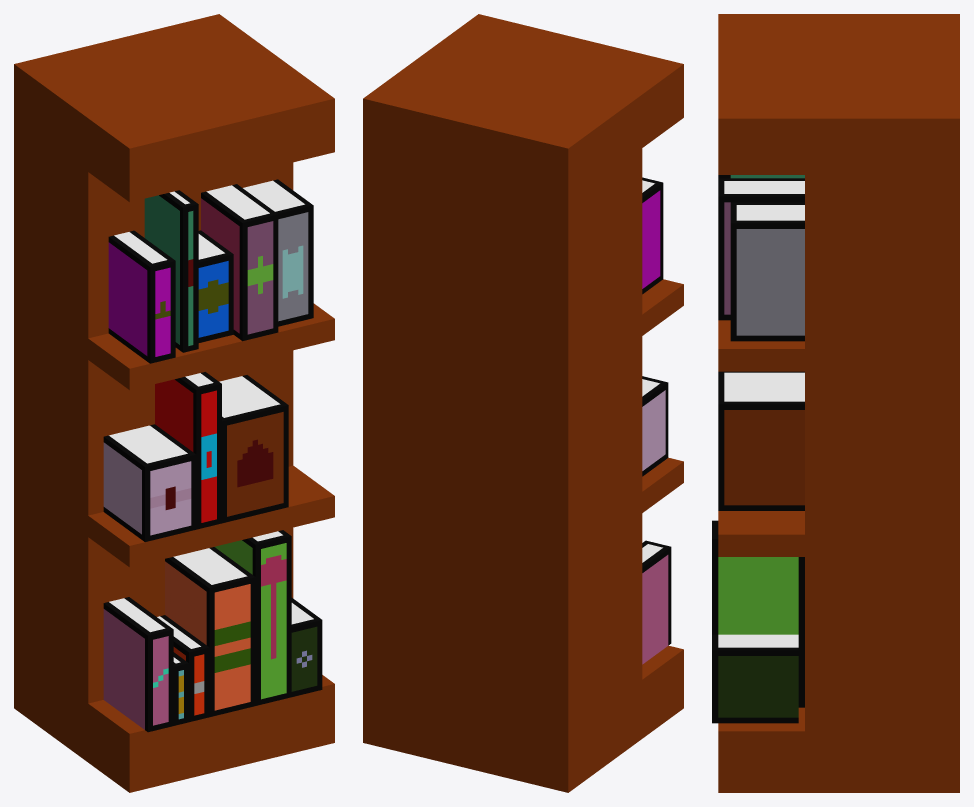
The model's file is noOpen2.obj.
3 views of the same model, side by side, from view 1: azimuth 30°, elevation 25°; view 2: azimuth 150°, elevation 25°; view 3: azimuth 270°, elevation 25° (orthographic). The views are drawn at different scales.
Size of the model in its own units: 4 by 12 by 4.
1 material, 1 textured.
